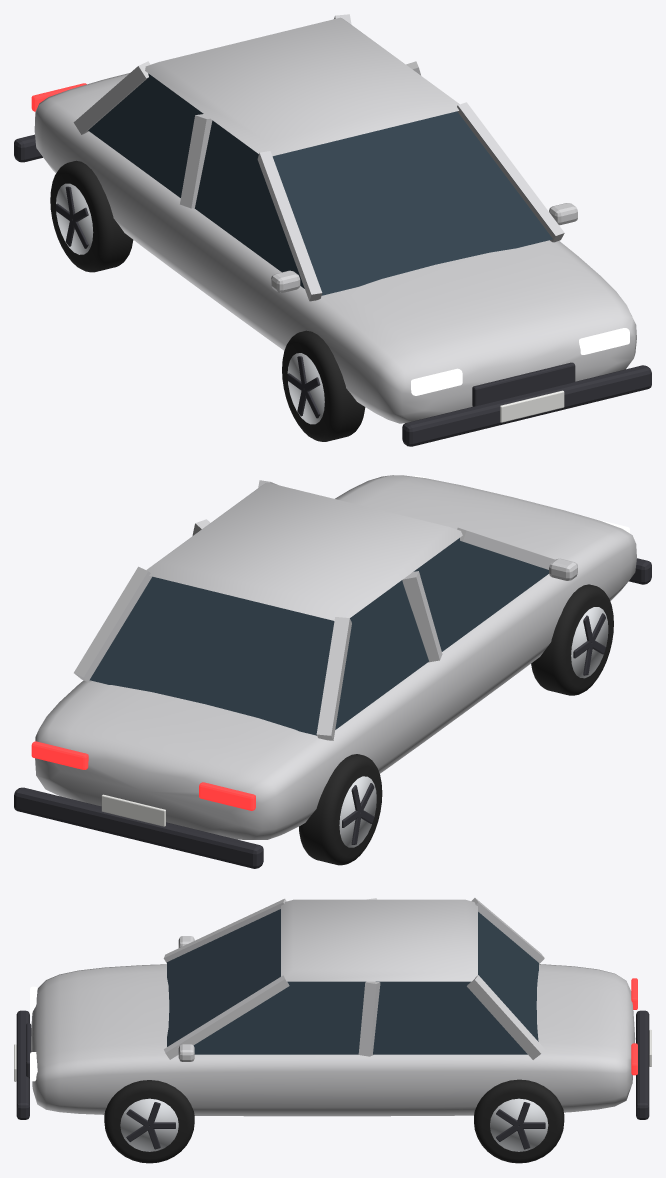
The model's file is sedan.glb.
3 renders of one model, top to bottom at view 1: azimuth 30°, elevation 25°; view 2: azimuth 150°, elevation 25°; view 3: azimuth 270°, elevation 25°, orthographic. The views are drawn at different scales.
Parts seen in each view (by area): view 1: Body, Glass, Roof, Bumper, Tire, Tire.002, APillar, APillar.001, Grille, BPillar, CPillar, Rim (+4 smaller); view 2: Body, Glass, Roof, Bumper.001, Tire.002, Tire, CPillar, CPillar.001, BPillar, Rim, Rim.002, APillar (+3 smaller); view 3: Body, Glass, Roof, Tire.003, Tire.001, Rim.003, Rim.001, APillar.001, CPillar.001, Bumper.001, Bumper, BPillar.001 (+2 smaller).
Part boxes in pixels (box(x1,y1,x2,y2)): Body: box(34, 73, 636, 423); Glass: box(88, 73, 552, 295); Roof: box(145, 17, 459, 156); Bumper: box(402, 365, 651, 446); Tire: box(282, 330, 365, 441); Tire.002: box(50, 160, 133, 272); APillar: box(257, 151, 322, 301); APillar.001: box(457, 102, 564, 242); Grille: box(472, 362, 575, 406); BPillar: box(180, 114, 212, 208); CPillar: box(73, 61, 150, 134); Rim: box(287, 353, 324, 424); Body: box(35, 475, 636, 839); Glass: box(89, 538, 548, 735); Roof: box(146, 482, 462, 620); Bumper.001: box(14, 787, 263, 868); Tire.002: box(299, 754, 382, 865); Tire: box(531, 584, 613, 695); CPillar: box(316, 617, 351, 740); CPillar.001: box(74, 566, 151, 682); BPillar: box(402, 571, 442, 662); Rim: box(571, 607, 608, 678); Rim.002: box(339, 776, 376, 847); APillar: box(457, 527, 554, 569); Body: box(31, 964, 635, 1116); Glass: box(167, 909, 538, 1054); Roof: box(281, 899, 477, 981); Tire.003: box(474, 1079, 564, 1163); Tire.001: box(104, 1080, 194, 1163); Rim.003: box(490, 1098, 548, 1151); Rim.001: box(120, 1098, 178, 1151); APillar.001: box(164, 975, 289, 1059); CPillar.001: box(467, 975, 544, 1059); Bumper.001: box(636, 1010, 649, 1119); Bumper: box(16, 1010, 29, 1119); BPillar.001: box(358, 981, 380, 1056).
Bounding box in the file's own units: 2.09 × 1.46 × 4.8.
